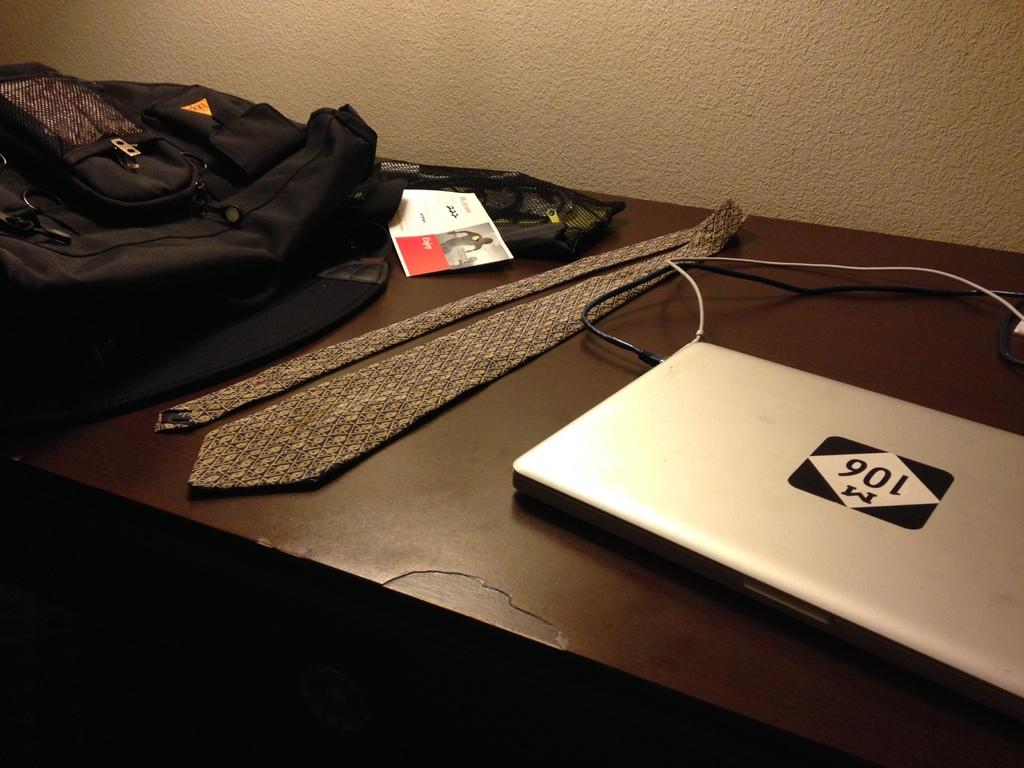Luggage-and-bags: (0, 58, 630, 444)
